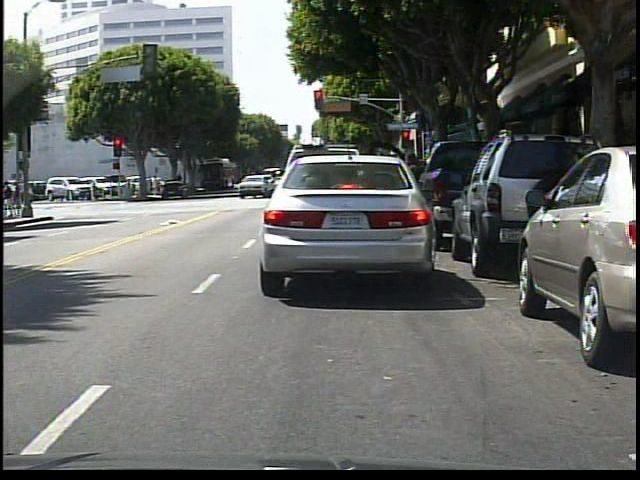person: (402, 148, 431, 235), (6, 183, 26, 219)
